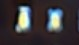MISSING: (10, 3, 37, 37), (41, 3, 68, 37)
